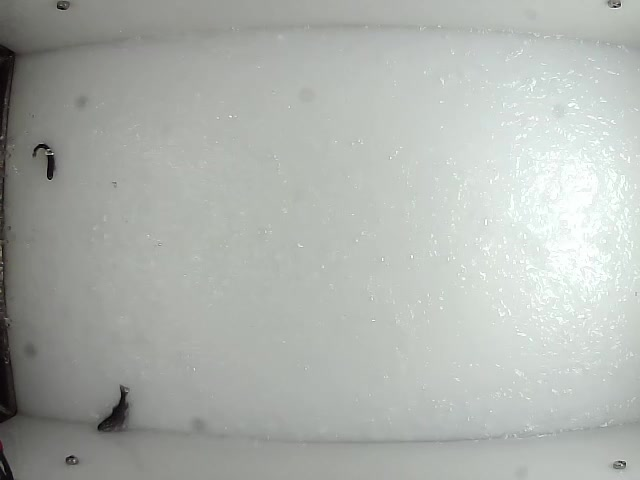fish: (94, 384, 134, 436), (30, 141, 56, 181)
